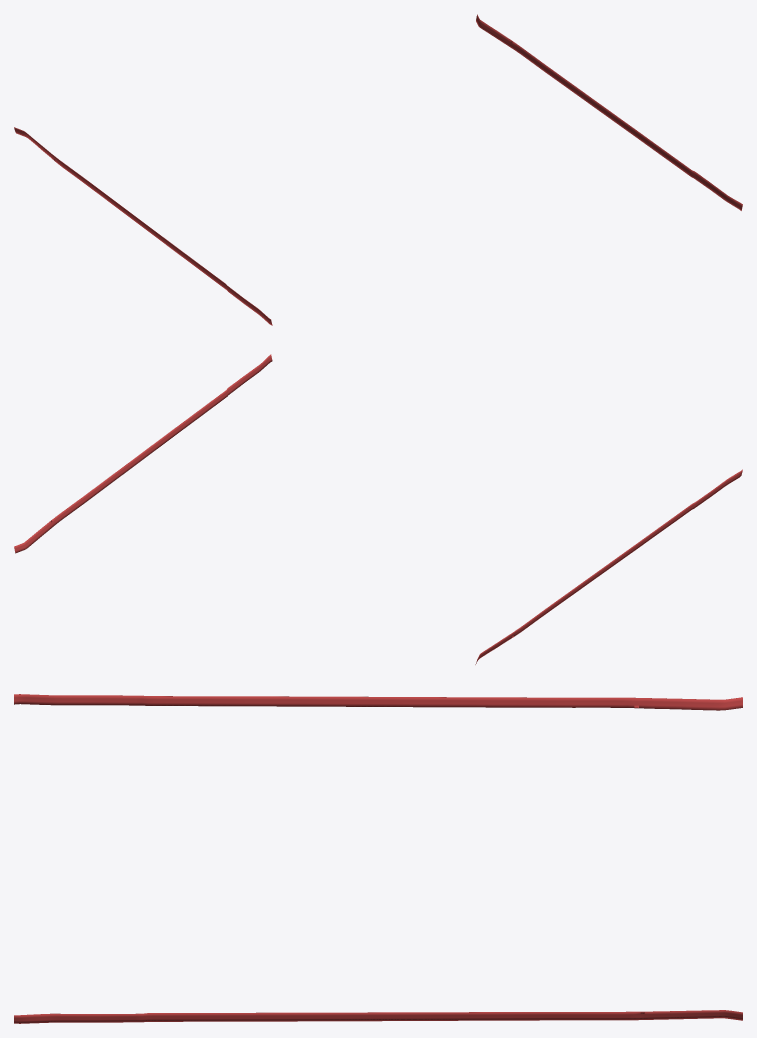
The model's file is DT77_side_stripes_accent.glb.
3 renders of one model, top to bottom at view 1: azimuth 30°, elevation 25°; view 2: azimuth 150°, elevation 25°; view 3: azimuth 270°, elevation 25°, orthographic. The views are drawn at different scales.
Visible parts, largest first — view 1: MOD_NA_DT77_stripe_L, MOD_NA_DT77_stripe_R; view 2: MOD_NA_DT77_stripe_L, MOD_NA_DT77_stripe_R; view 3: MOD_NA_DT77_stripe_R, MOD_NA_DT77_stripe_L.
Part boxes in pixels (x1,y1,x2,y2): MOD_NA_DT77_stripe_L: [476, 14, 742, 210]; MOD_NA_DT77_stripe_R: [14, 127, 272, 325]; MOD_NA_DT77_stripe_L: [14, 354, 272, 553]; MOD_NA_DT77_stripe_R: [475, 469, 742, 664]; MOD_NA_DT77_stripe_R: [14, 694, 742, 710]; MOD_NA_DT77_stripe_L: [14, 1010, 742, 1023].
Bounding box in the file's own units: 1.65 × 0.0224 × 1.58.
